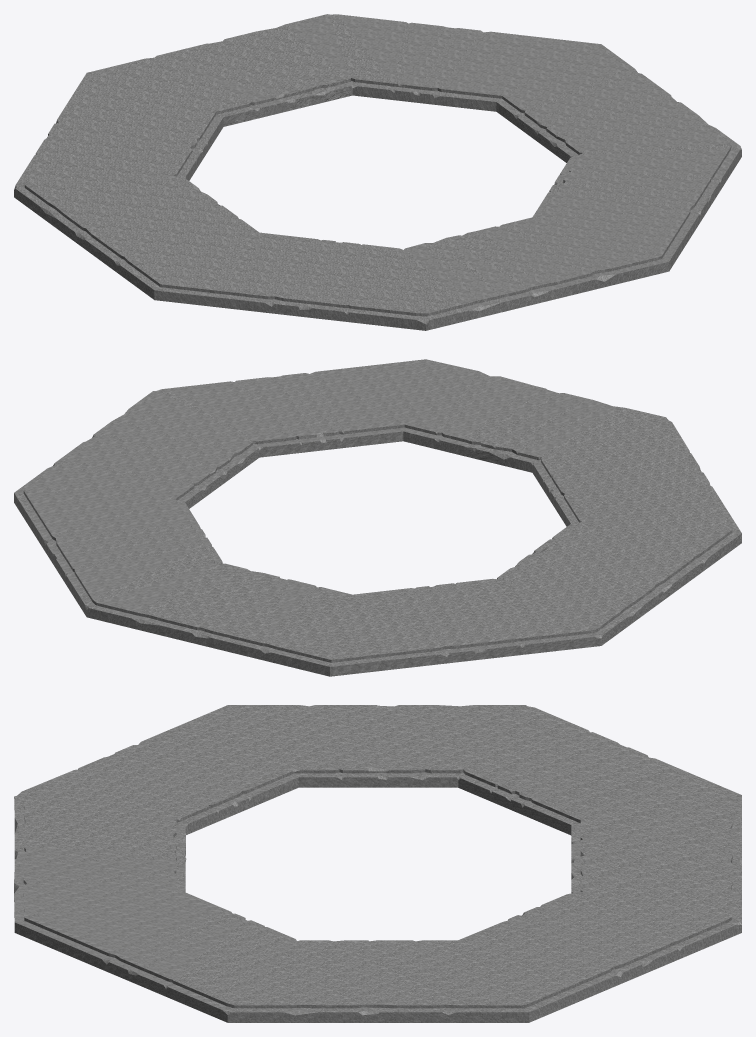
File: materials_3_base_9.fbx
3 renders of one model, top to bottom at view 1: azimuth 30°, elevation 25°; view 2: azimuth 150°, elevation 25°; view 3: azimuth 270°, elevation 25°, orthographic. The views are drawn at different scales.
Visible parts, largest first — view 1: materials_3_base_9; view 2: materials_3_base_9; view 3: materials_3_base_9.
Boxes of the visible parts, left/top/right/bottom form: materials_3_base_9: left=14, top=14, right=741, bottom=330; materials_3_base_9: left=14, top=359, right=741, bottom=676; materials_3_base_9: left=14, top=705, right=741, bottom=1022.
Size of the model in its own units: 5019 by 108 by 5024.
